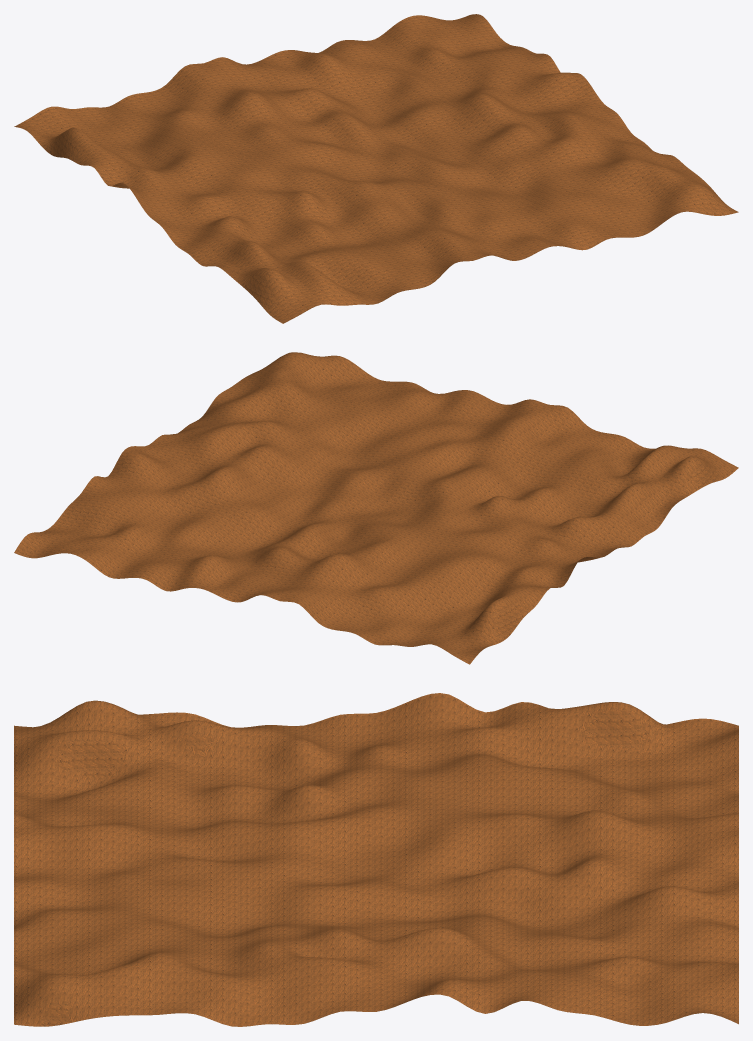
Rendered from desert.dae.
3 views of the same model, one above another, from view 1: azimuth 30°, elevation 25°; view 2: azimuth 150°, elevation 25°; view 3: azimuth 270°, elevation 25° (orthographic). The views are drawn at different scales.
Parts seen in each view (by area): view 1: desert fbx; view 2: desert fbx; view 3: desert fbx.
Boxes of the visible parts, x1,y1,x2,y2 form: desert fbx: (14, 14, 738, 323); desert fbx: (14, 352, 738, 664); desert fbx: (14, 693, 738, 1026).
Size of the model in its own units: 116 by 119 by 8.52.
1 material, 1 textured.
